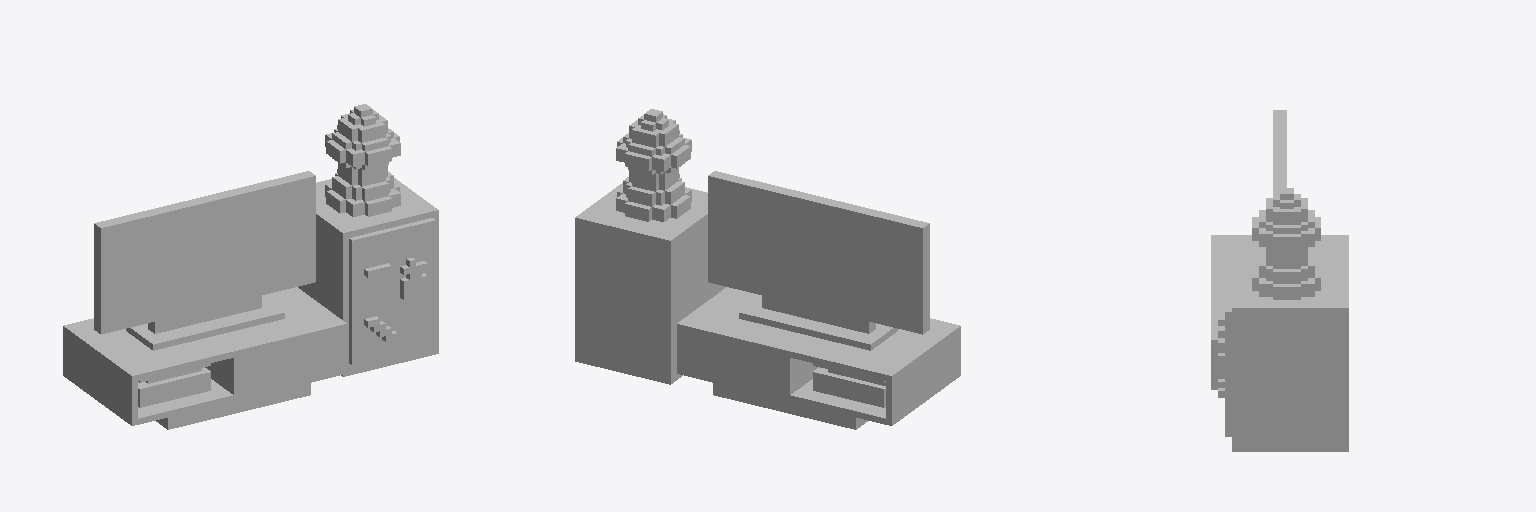
The model's file is Character_room-8-TV_and_fridge.obj.
The picture shows the model from 3 angles: view 1: azimuth 30°, elevation 25°; view 2: azimuth 150°, elevation 25°; view 3: azimuth 270°, elevation 25°; orthographic projection.
Parts seen in each view (by area): view 1: TV and fridge; view 2: TV and fridge; view 3: TV and fridge.
Boxes of the visible parts, x1=… form: TV and fridge: x1=63, y1=104, x2=438, y2=429; TV and fridge: x1=575, y1=109, x2=960, y2=429; TV and fridge: x1=1211, y1=110, x2=1348, y2=451.
Size of the model in its own units: 5.3 by 3.8 by 2.